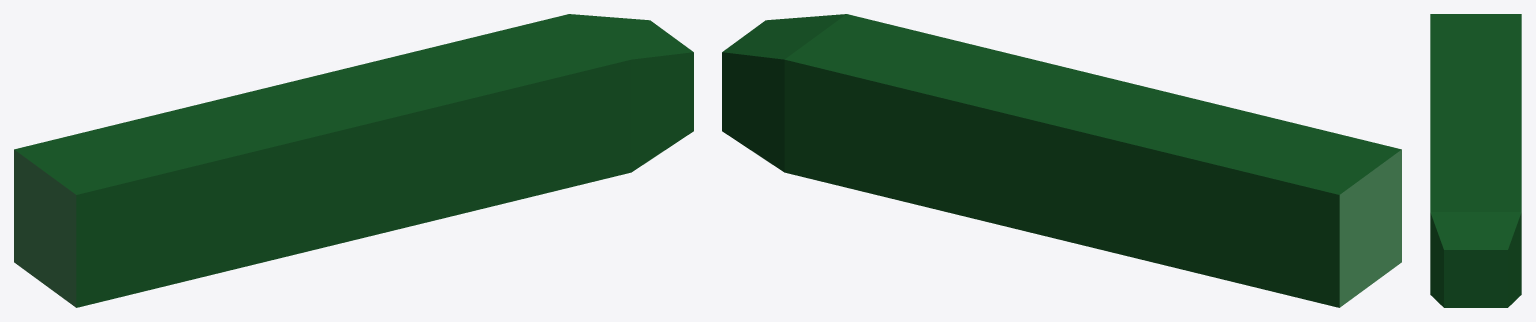
File: Cucumber.fbx
The picture shows the model from 3 angles, left to right: view 1: azimuth 30°, elevation 25°; view 2: azimuth 150°, elevation 25°; view 3: azimuth 270°, elevation 25°; orthographic projection. The views are drawn at different scales.
Visible parts, largest first — view 1: pCube7; view 2: pCube7; view 3: pCube7.
Boxes of the visible parts, box(x1,y1,x2,y2) form: pCube7: box(14, 14, 693, 307); pCube7: box(722, 14, 1401, 307); pCube7: box(1430, 14, 1521, 307).
Size of the model in its own units: 161 by 27.78 by 27.78.
